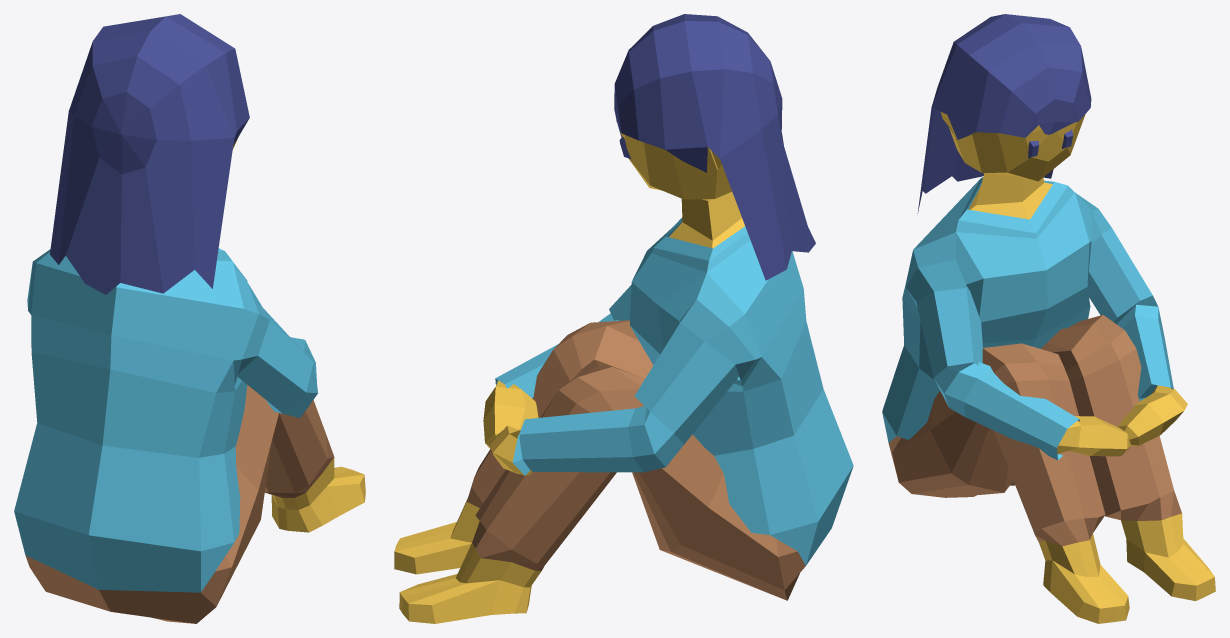
Rendered from 093_店員(Woman)001.glb.
The picture shows the model from 3 angles, left to right: view 1: azimuth 30°, elevation 25°; view 2: azimuth 150°, elevation 25°; view 3: azimuth 270°, elevation 25°; orthographic projection. The views are drawn at different scales.
Visible parts, largest first — view 1: 立方体013_4, 立方体013, 立方体013_2, 立方体013_1; view 2: 立方体013_4, 立方体013_2, 立方体013, 立方体013_1, 立方体013_3; view 3: 立方体013_4, 立方体013_2, 立方体013, 立方体013_1, 立方体013_3.
Boxes of the visible parts, <box> form: 立方体013_4: <box>14,248,317,592</box>; 立方体013: <box>50,14,249,294</box>; 立方体013_2: <box>25,385,334,623</box>; 立方体013_1: <box>232,137,365,532</box>; 立方体013_4: <box>495,217,853,565</box>; 立方体013_2: <box>467,320,805,600</box>; 立方体013: <box>614,14,815,280</box>; 立方体013_1: <box>394,131,744,623</box>; 立方体013_3: <box>483,380,538,475</box>; 立方体013_4: <box>882,177,1173,460</box>; 立方体013_2: <box>888,315,1181,546</box>; 立方体013: <box>917,14,1091,213</box>; 立方体013_1: <box>941,112,1215,623</box>; 立方体013_3: <box>1057,385,1187,456</box>.
Size of the model in its own units: 0.8736 by 1.22 by 0.7446.
